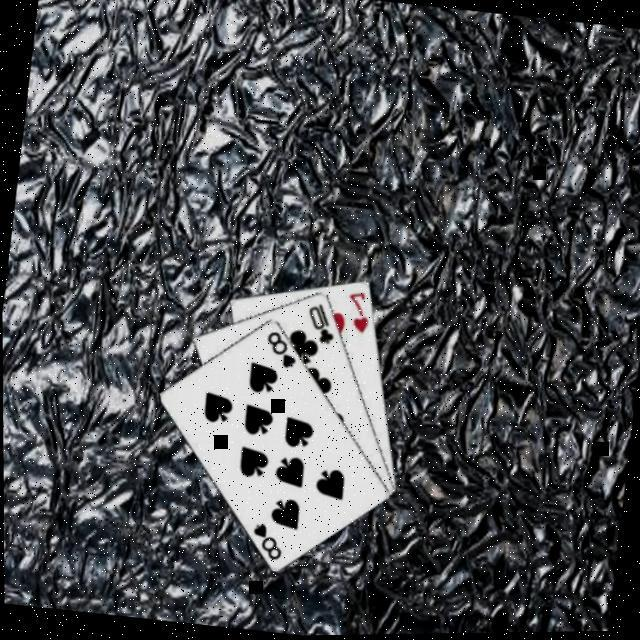10C: (303, 297, 341, 347)
7H: (342, 286, 375, 335)
8S: (260, 325, 302, 370), (246, 517, 288, 562)
